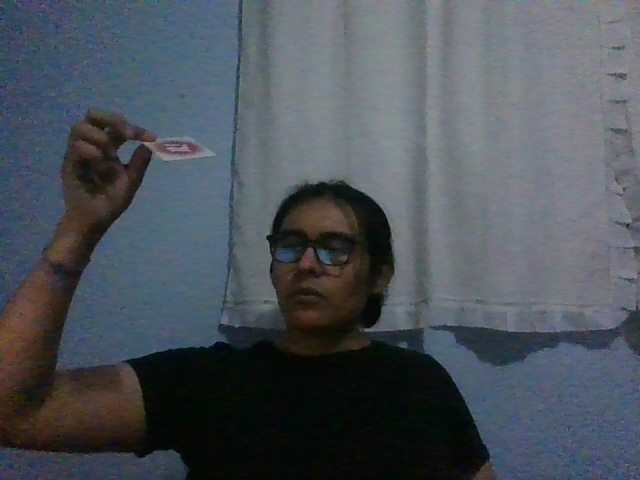tarjeta: (140, 135, 217, 162)
